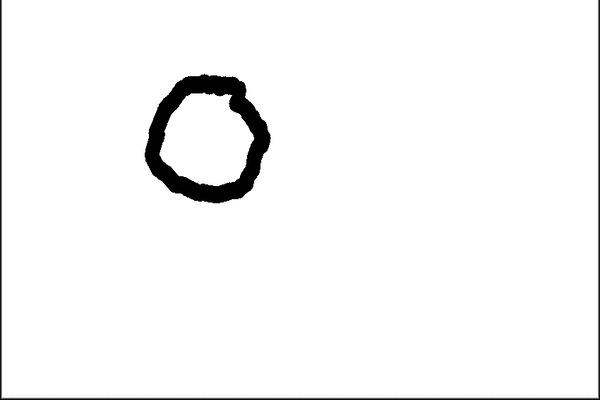O: (133, 62, 273, 206)
